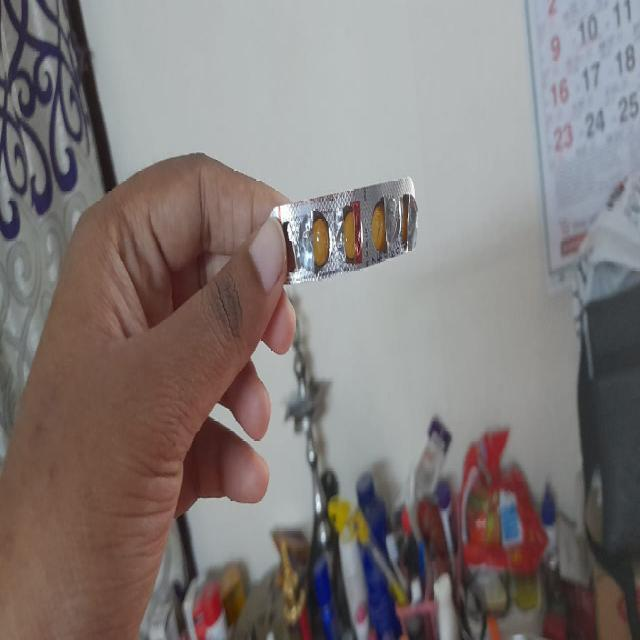Blister_Packs - Non Recyclable: (268, 172, 420, 289)
